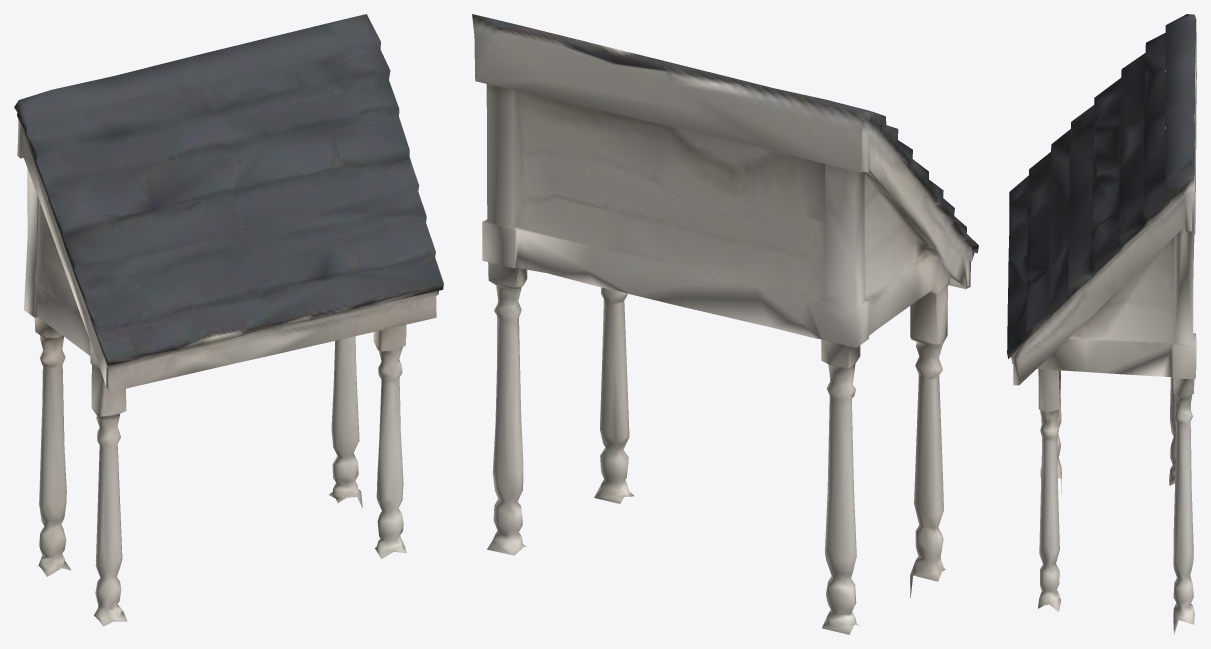
The model's file is kit-porch.glb.
3 views of the same model, side by side, from view 1: azimuth 30°, elevation 25°; view 2: azimuth 150°, elevation 25°; view 3: azimuth 270°, elevation 25° (orthographic). The views are drawn at different scales.
Visible parts, largest first — view 1: roof, posts; view 2: posts, roof; view 3: posts, roof.
Boxes of the visible parts, left/top/right/bottom form: roof: left=14, top=14, right=443, bottom=359; posts: left=14, top=41, right=443, bottom=626; posts: left=472, top=14, right=978, bottom=634; roof: left=482, top=66, right=938, bottom=309; posts: left=1007, top=23, right=1196, bottom=634; roof: left=1007, top=14, right=1196, bottom=352.
Bounding box in the file's own units: 2.28 × 3.03 × 1.1.
1 material, 1 textured.
